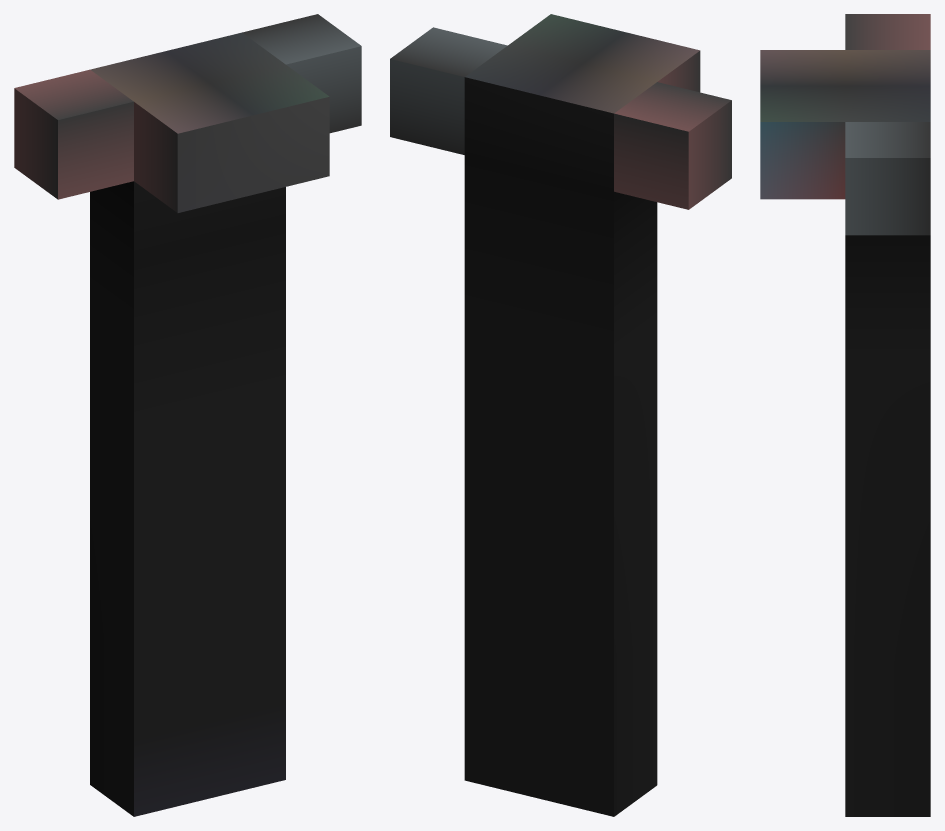
File: Cable_D_00.fbx
3 views of the same model, side by side, from view 1: azimuth 30°, elevation 25°; view 2: azimuth 150°, elevation 25°; view 3: azimuth 270°, elevation 25° (orthographic). The views are drawn at different scales.
Parts seen in each view (by area): view 1: Cable_D_00; view 2: Cable_D_00; view 3: Cable_D_00.
Part boxes in pixels (<box>): Cable_D_00: <box>14,14,361,816</box>; Cable_D_00: <box>390,14,731,816</box>; Cable_D_00: <box>760,14,930,816</box>.
Size of the model in its own units: 20 by 45 by 10.
